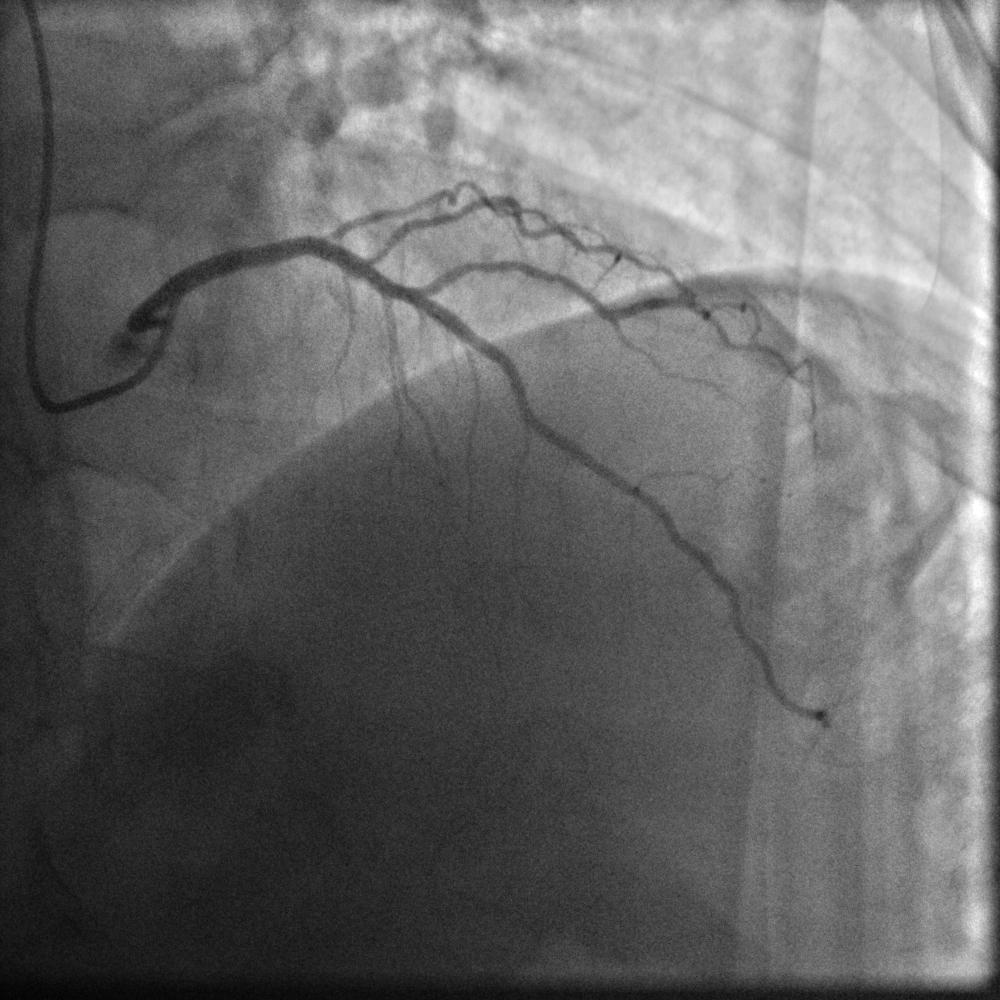Stenosis: (323, 207, 402, 261)
